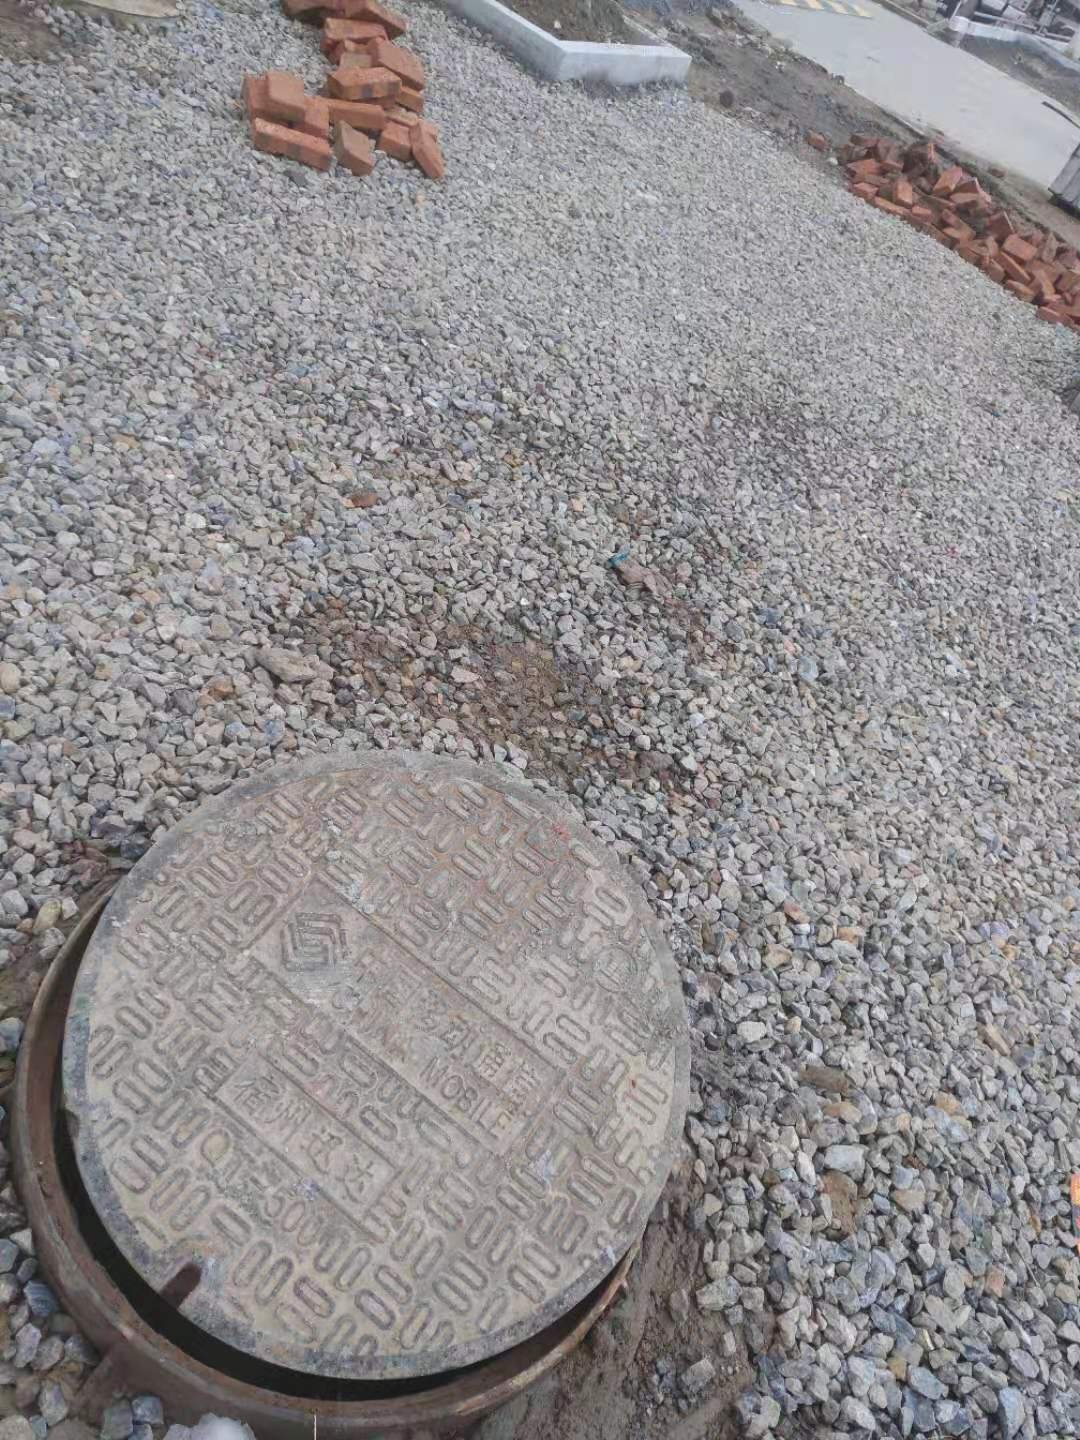well: (9, 739, 704, 1432)
